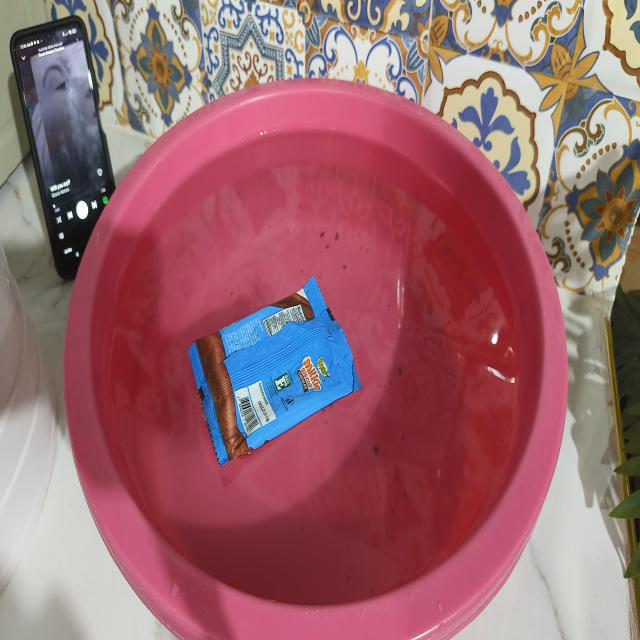Plastic Wrapper: (189, 276, 361, 466)
